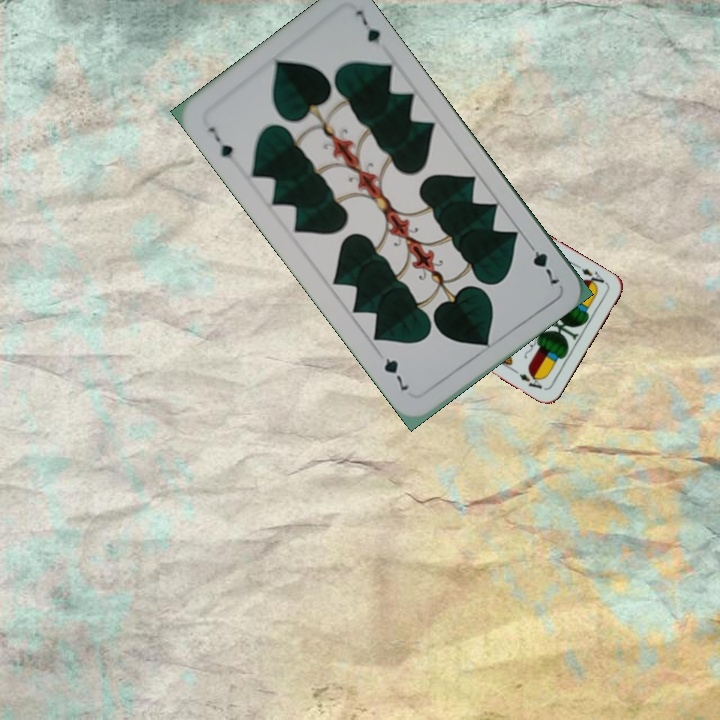EA: (572, 261, 609, 290)
G7: (522, 236, 562, 287), (204, 122, 236, 162)
